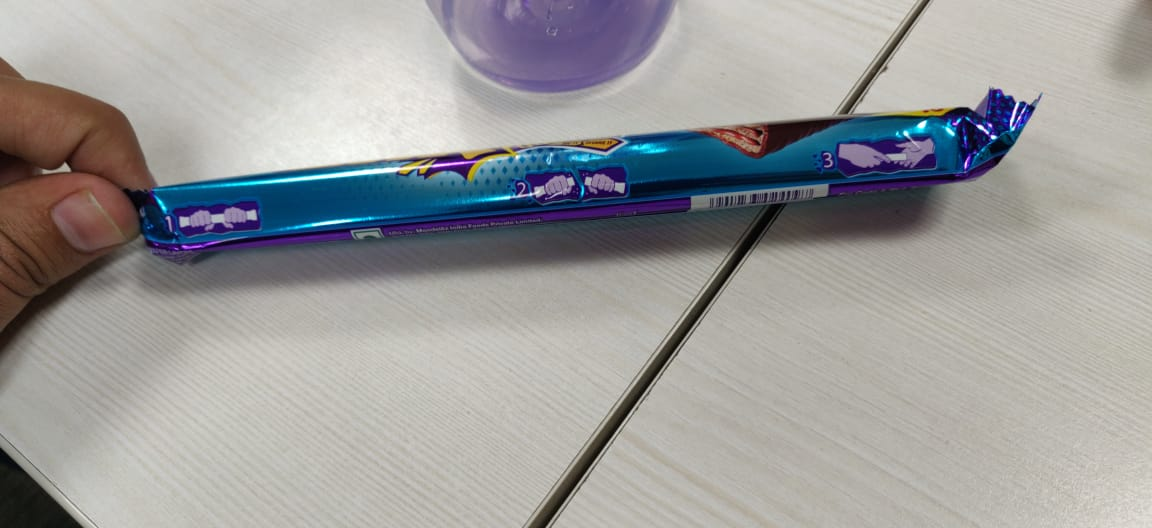perk: (125, 77, 1044, 286)
